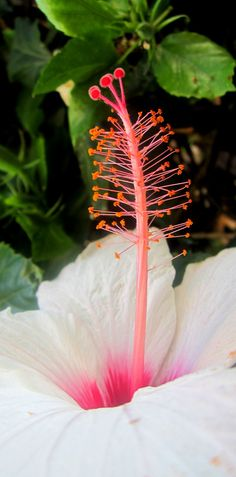Hibiscus: (1, 67, 236, 477)
